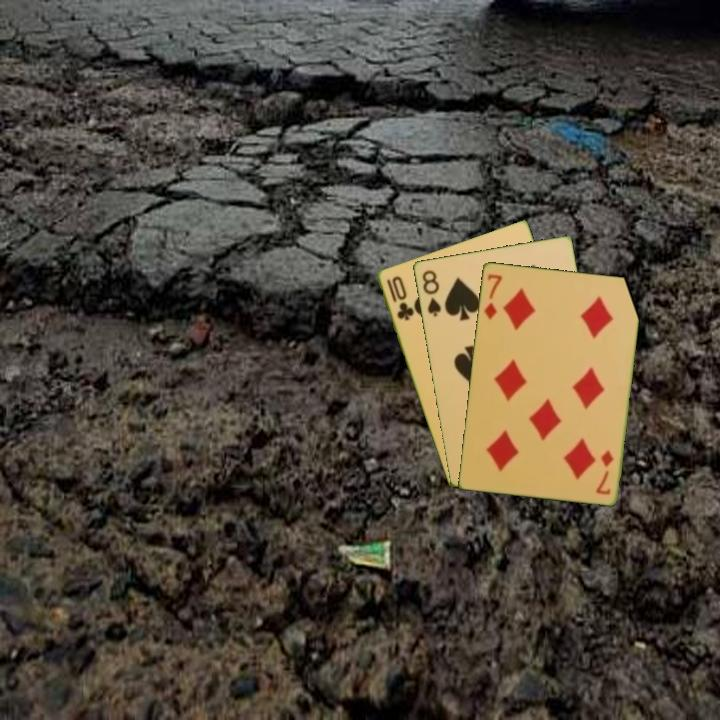10c: (383, 272, 416, 323)
7d: (480, 270, 505, 322), (592, 446, 616, 497)
8s: (418, 266, 443, 319)
